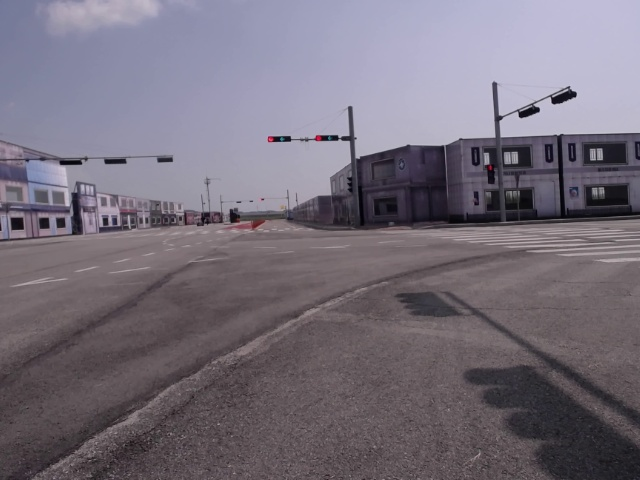left_green_4: (268, 137, 291, 142), (316, 136, 338, 141)
